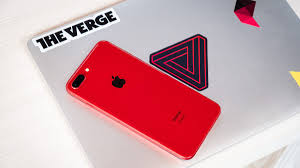iphone: (62, 38, 222, 164)
